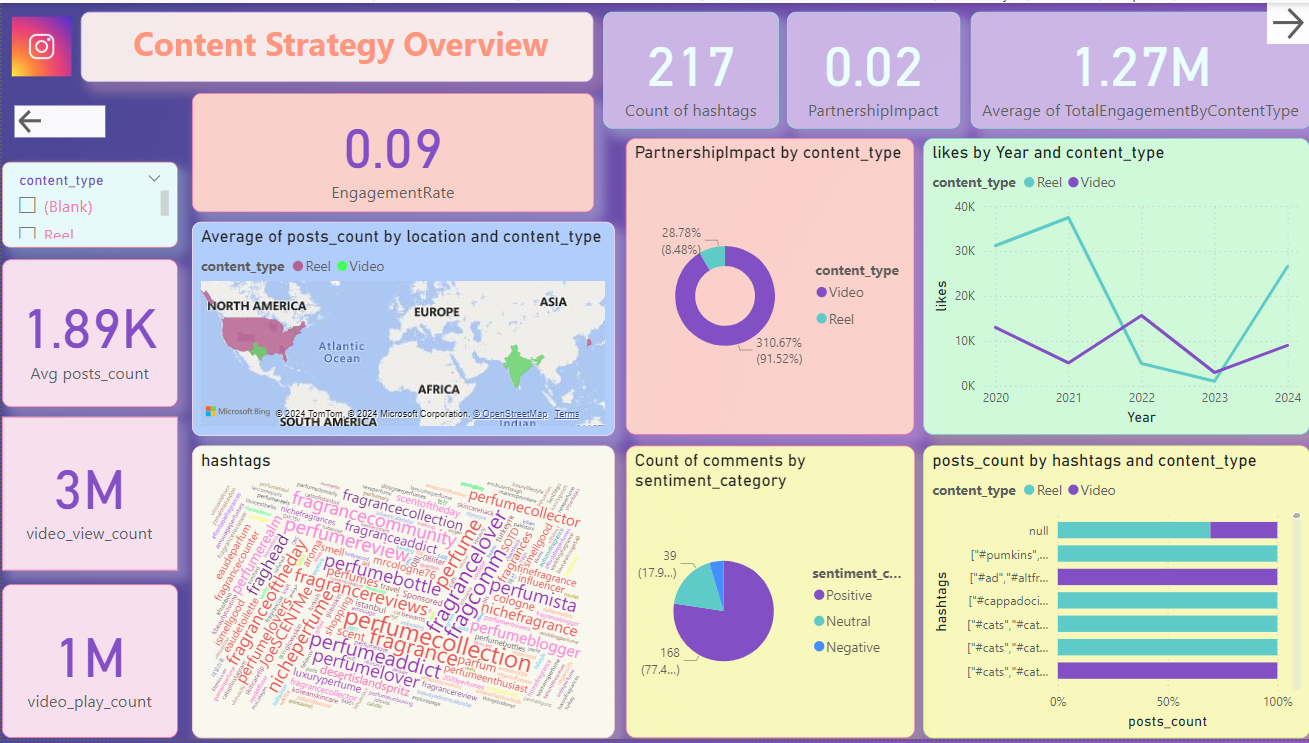

What the dashboard file says about the page in this screenshot:
{"tool":"powerbi","page":{"name":"Page 3","canvas":[1280,720],"ordinal":2},"visuals":[{"type":"textbox","box":[77.2,8.7,501.9,68.5],"z":0},{"type":"image","box":[0,8.7,77.2,68.5],"z":1000},{"type":"card","fields":{"Values":["Avg(Instagram - Posts.posts_count)"]},"box":[0,250.3,171.9,144.5],"z":2000},{"type":"card","fields":{"Values":["Sum(Instagram - Posts.video_view_count)"]},"box":[0,404.7,171.9,150.7],"z":3000},{"type":"card","fields":{"Values":["Sum(Instagram - Posts.video_play_count)"]},"box":[0,569.1,171.9,150.7],"z":4000},{"type":"card","fields":{"Values":["Instagram - Posts.EngagementRate"]},"box":[185.6,88.4,393.5,117.1],"z":5000},{"type":"card","fields":{"Values":["CountNonNull(Instagram - Posts.hashtags)"]},"box":[587.8,8.7,171.9,114.6],"z":6000},{"type":"card","fields":{"Values":["Instagram - Posts.PartnershipImpact"]},"box":[768.4,8.7,169.4,114.6],"z":7000},{"type":"card","fields":{"Values":["Avg(ContentTypeTable.TotalEngagementByContentType)"]},"box":[947.7,8.7,332.5,114.6],"z":8000},{"type":"WordCloud1447959067750","fields":{"Category":["Instagram - Posts.hashtags"]},"box":[185.6,433.4,413.5,286.4],"z":9000},{"type":"lineChart","fields":{"Category":["Date.Year"],"Series":["Instagram - Posts.content_type"],"Y":["Sum(Instagram - Posts.likes)"]},"box":[901.7,132,378.6,290.2],"z":10000},{"type":"hundredPercentStackedBarChart","fields":{"Category":["Instagram - Posts.hashtags"],"Y":["Sum(Instagram - Posts.posts_count)"],"Series":["Instagram - Posts.content_type"]},"box":[901.7,433.4,378.6,286.4],"z":11000},{"type":"slicer","fields":{"Values":["Instagram - Posts.content_type"]},"box":[0,154.9,171.9,84.2],"z":12000},{"type":"donutChart","fields":{"Y":["Instagram - Posts.PartnershipImpact"],"Category":["Instagram - Posts.content_type"]},"box":[610.2,132,282.7,290.2],"z":13000},{"type":"filledMap","fields":{"Category":["Instagram - Posts.location"],"Series":["Instagram - Posts.content_type"],"Y":["Avg(Instagram - Posts.posts_count)"]},"box":[185.6,214.2,413.5,209.2],"z":14000},{"type":"pieChart","fields":{"Category":["Comments.sentiment_category"],"Y":["CountNonNull(Comments.comments)"]},"box":[610,433,283,286],"z":15000},{"type":"actionButton","box":[12.5,100.3,88.7,31.3],"z":16000},{"type":"actionButton","box":[1237.6,0,42.1,40.3],"z":17000}]}

Visuals, with their boxes in screenshot pixels (x1, y1, x2, y2), scaled from the page's 1280x720 canvas onto the 1309x743 screenshot:
textbox: bbox(79, 9, 592, 80)
image: bbox(0, 9, 79, 80)
card - Avg(Instagram - Posts.posts_count): bbox(0, 258, 176, 407)
card - Sum(Instagram - Posts.video_view_count): bbox(0, 418, 176, 573)
card - Sum(Instagram - Posts.video_play_count): bbox(0, 587, 176, 742)
card - Instagram - Posts.EngagementRate: bbox(190, 91, 592, 212)
card - CountNonNull(Instagram - Posts.hashtags): bbox(601, 9, 777, 127)
card - Instagram - Posts.PartnershipImpact: bbox(786, 9, 959, 127)
card - Avg(ContentTypeTable.TotalEngagementByContentType): bbox(969, 9, 1308, 127)
WordCloud1447959067750 - Instagram - Posts.hashtags: bbox(190, 447, 613, 742)
lineChart - Date.Year x Instagram - Posts.content_type: bbox(922, 136, 1308, 436)
hundredPercentStackedBarChart - Instagram - Posts.hashtags x Sum(Instagram - Posts.posts_count): bbox(922, 447, 1308, 742)
slicer - Instagram - Posts.content_type: bbox(0, 160, 176, 247)
donutChart - Instagram - Posts.PartnershipImpact x Instagram - Posts.content_type: bbox(624, 136, 913, 436)
filledMap - Instagram - Posts.location x Instagram - Posts.content_type: bbox(190, 221, 613, 437)
pieChart - Comments.sentiment_category x CountNonNull(Comments.comments): bbox(624, 447, 913, 742)
actionButton: bbox(13, 104, 103, 136)
actionButton: bbox(1266, 0, 1308, 42)
